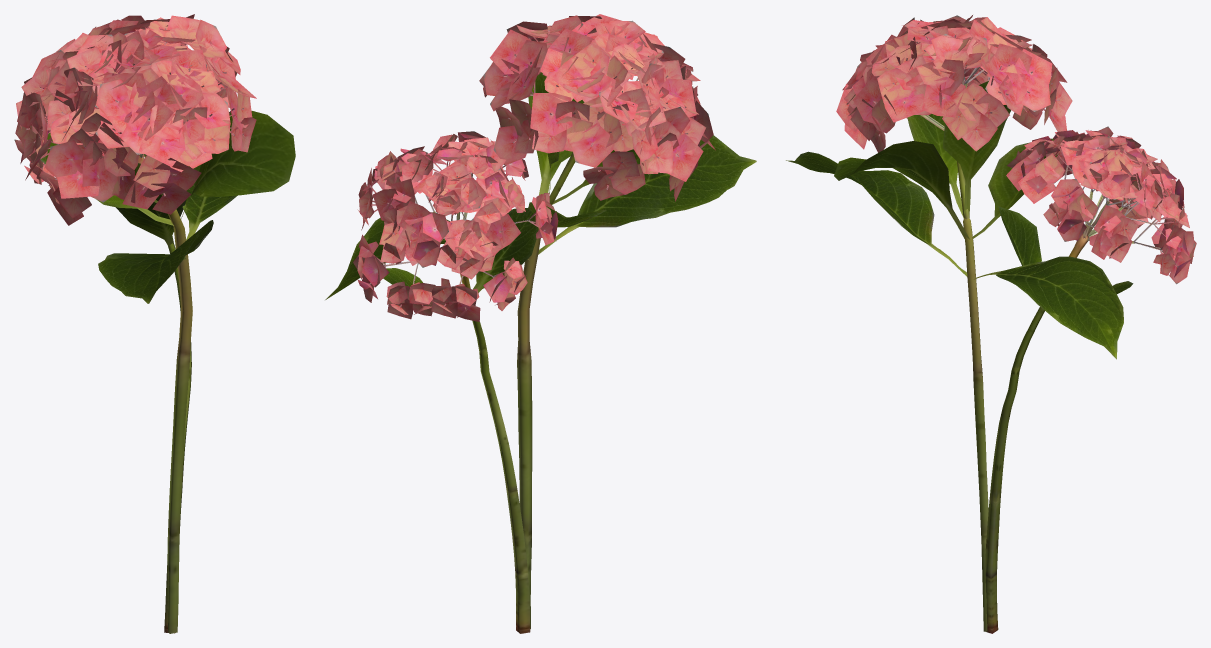
The model's file is Hydrangea_bush_short_red.glb.
The picture shows the model from 3 angles, left to right: view 1: azimuth 30°, elevation 25°; view 2: azimuth 150°, elevation 25°; view 3: azimuth 270°, elevation 25°; orthographic projection. The views are drawn at different scales.
Visible parts, largest first — view 1: BUSHEKK; view 2: BUSHEKK; view 3: BUSHEKK.
Boxes of the visible parts, x1=… form: BUSHEKK: x1=14, y1=14, x2=295, y2=633; BUSHEKK: x1=325, y1=14, x2=756, y2=633; BUSHEKK: x1=786, y1=15, x2=1196, y2=633.
Size of the model in its own units: 1.48 by 2.94 by 1.87.
Materials: 1 (1 with a texture image).
